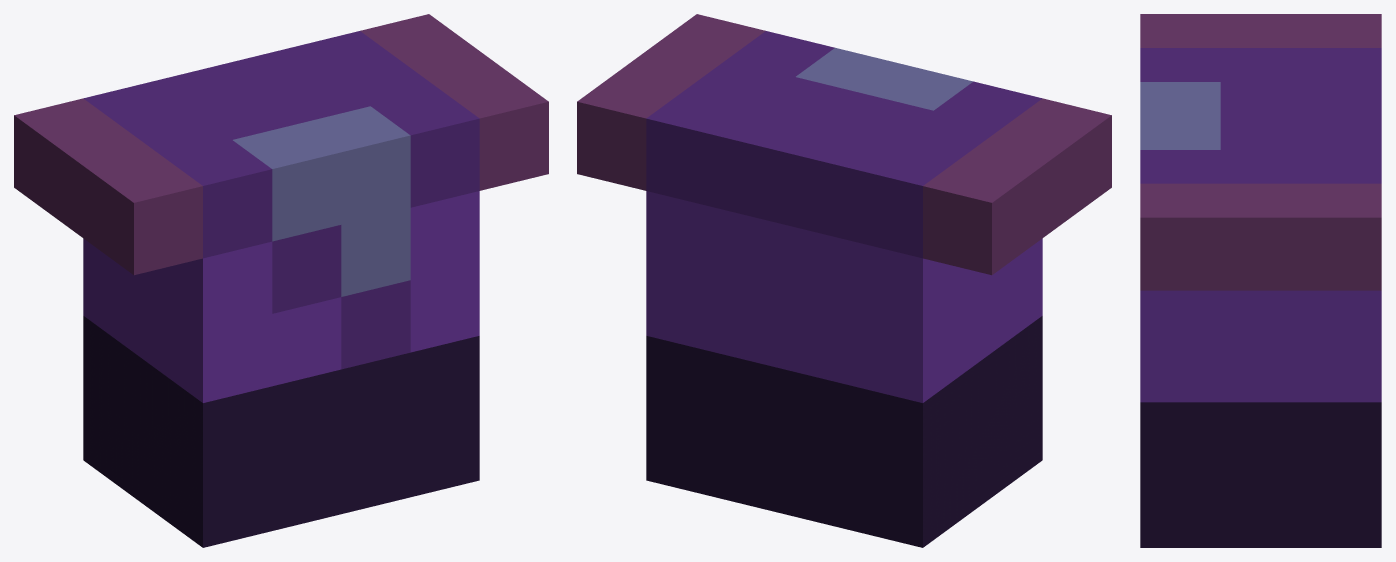
Rendered from bodyPattern.obj.
3 renders of one model, left to right at view 1: azimuth 30°, elevation 25°; view 2: azimuth 150°, elevation 25°; view 3: azimuth 270°, elevation 25°, orthographic.
Bounding box in the file's own units: 6 × 5 × 3.
Materials: 1 (1 with a texture image).
